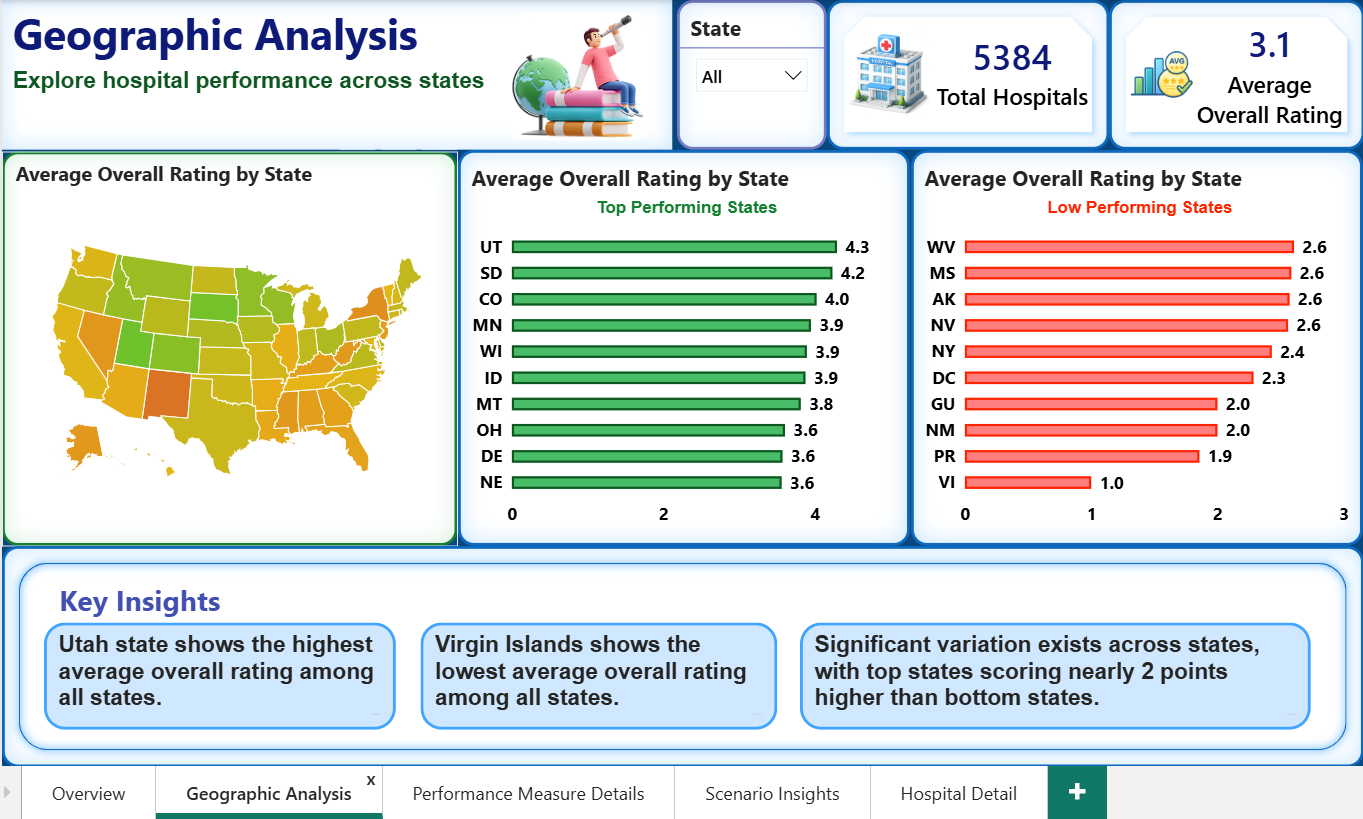

The page's visual inventory and layout, read from the dashboard file:
{"tool":"powerbi","page":{"name":"Geographic Analysis","canvas":[1280,720],"ordinal":1},"visuals":[{"type":"shapeMap","title":"Average Overall Rating by State","fields":{"Category":["Dim_State.State"],"Value":["Measures_Table.Avg Overall Rating"]},"box":[0,142.2,428.2,370.7],"z":0},{"type":"clusteredBarChart","title":"Average Overall Rating by State","fields":{"Category":["Dim_State.State"],"Y":["Measures_Table.Avg Overall Rating"]},"box":[428.2,140.6,425,372.3],"z":1000},{"type":"clusteredBarChart","title":"Average Overall Rating by State","fields":{"Category":["Dim_State.State"],"Y":["Measures_Table.Avg Overall Rating"]},"box":[854.8,140.6,425,372.3],"z":2000},{"type":"slicer","title":"State","fields":{"Values":["Dim_State.State"]},"box":[635,0,140.6,140.6],"z":3000},{"type":"cardVisual","title":"Total Hospitals","fields":{"Data":["Measures_Table.Total Hospitals"]},"box":[775,0,265.2,140.6],"z":4000},{"type":"cardVisual","fields":{"Data":["Measures_Table.Avg Overall Rating"]},"box":[1040.1,0,240,140.6],"z":5000},{"type":"textbox","title":"Geographic Analysis","box":[0,0,630,140.6],"z":6000},{"type":"image","box":[466.5,6.4,150.2,129.4],"z":7000},{"type":"shape","title":"Key Insights","box":[0,512.9,1279.7,207.7],"z":8000},{"type":"textbox","title":"Key Insights","box":[30,545,200,40],"z":9000},{"type":"textbox","title":"Utah state shows the highest average overall rating among all states.","box":[40,585,330.7,100.7],"z":10000},{"type":"textbox","title":"Virgin Islands shows the lowest average overall rating among all states.","box":[393,585,335,100.7],"z":11000},{"type":"textbox","title":"Significant variation exists across states, with top states scoring nearly 2 points higher than bottom states.","box":[750,585,480,100.7],"z":12000}]}

Visuals, with their boxes on the page's 1280x720 design canvas (x1, y1, x2, y2). These are canvas units, not pixel positions in the 1363x819 screenshot, which may show the page scaled, cropped or inside an application window:
"Average Overall Rating by State" shapeMap: locate(0, 142, 428, 513)
"Average Overall Rating by State" clusteredBarChart: locate(428, 141, 853, 513)
"Average Overall Rating by State" clusteredBarChart: locate(855, 141, 1280, 513)
"State" slicer: locate(635, 0, 776, 141)
"Total Hospitals" cardVisual: locate(775, 0, 1040, 141)
cardVisual - Measures_Table.Avg Overall Rating: locate(1040, 0, 1280, 141)
"Geographic Analysis" textbox: locate(0, 0, 630, 141)
image: locate(466, 6, 617, 136)
"Key Insights" shape: locate(0, 513, 1280, 721)
"Key Insights" textbox: locate(30, 545, 230, 585)
"Utah state shows the highest average overall rating among all states." textbox: locate(40, 585, 371, 686)
"Virgin Islands shows the lowest average overall rating among all states." textbox: locate(393, 585, 728, 686)
"Significant variation exists across states, with top states scoring nearly 2 points higher than bottom states." textbox: locate(750, 585, 1230, 686)
